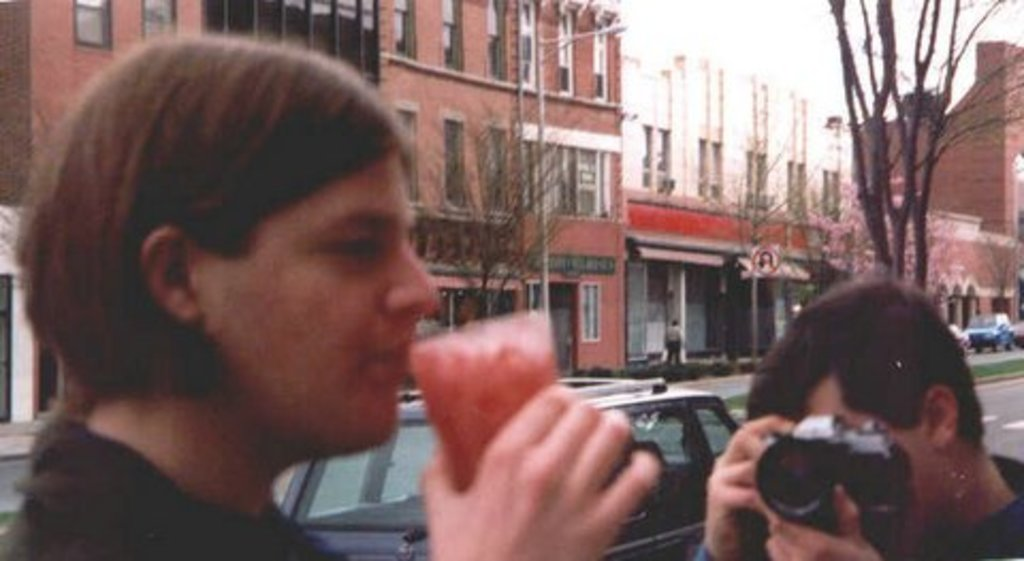Person: (667, 316, 686, 367)
